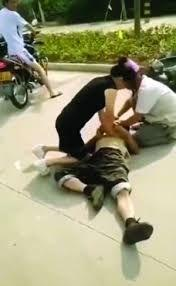Fall-Detected: (53, 104, 154, 244)
